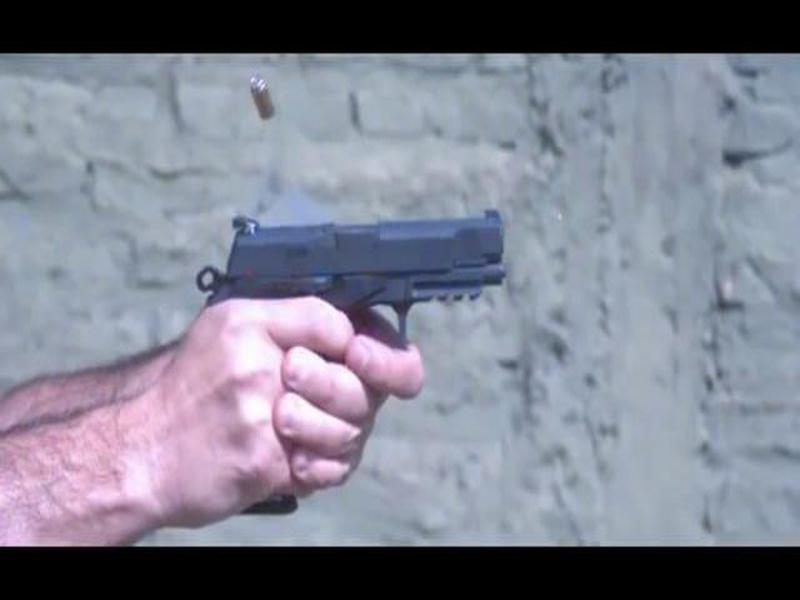Pistola: (187, 179, 562, 346)
